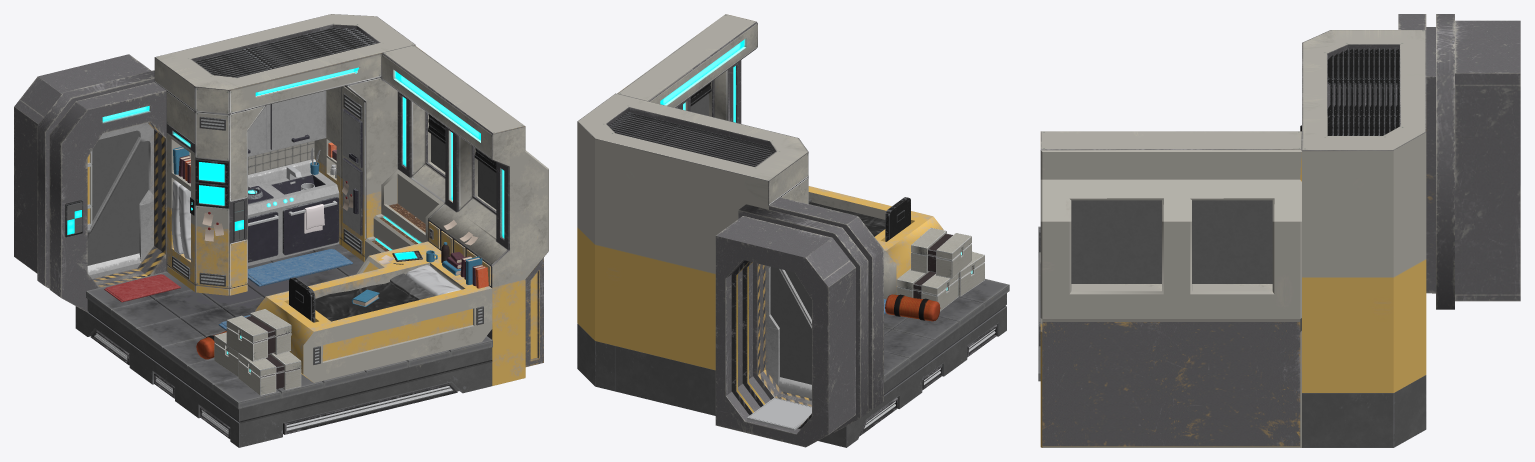
3 views of the same model, side by side, from view 1: azimuth 30°, elevation 25°; view 2: azimuth 150°, elevation 25°; view 3: azimuth 270°, elevation 25° (orthographic). The views are drawn at different scales.
Visible parts, largest first — view 1: EverythingElse1, Objects1; view 2: EverythingElse1, Objects1; view 3: EverythingElse1, Objects1.
Part boxes in pixels (left/top/right/bottom): EverythingElse1: left=14, top=14, right=548, bottom=447; Objects1: left=87, top=91, right=496, bottom=395; EverythingElse1: left=577, top=14, right=1009, bottom=447; Objects1: left=690, top=94, right=984, bottom=384; EverythingElse1: left=1038, top=14, right=1520, bottom=447; Objects1: left=1039, top=200, right=1272, bottom=346.
Size of the model in its own units: 550 by 394 by 578.
2 materials, 2 textured.
